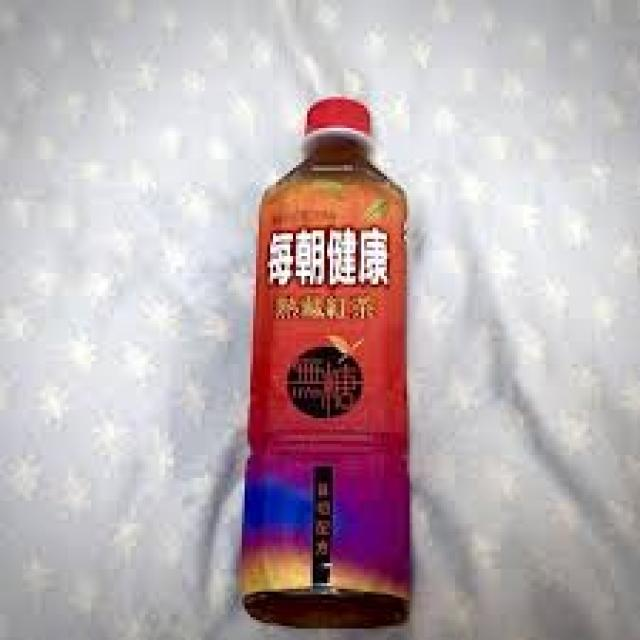MeiChou_BlackTea: (240, 86, 404, 613)
